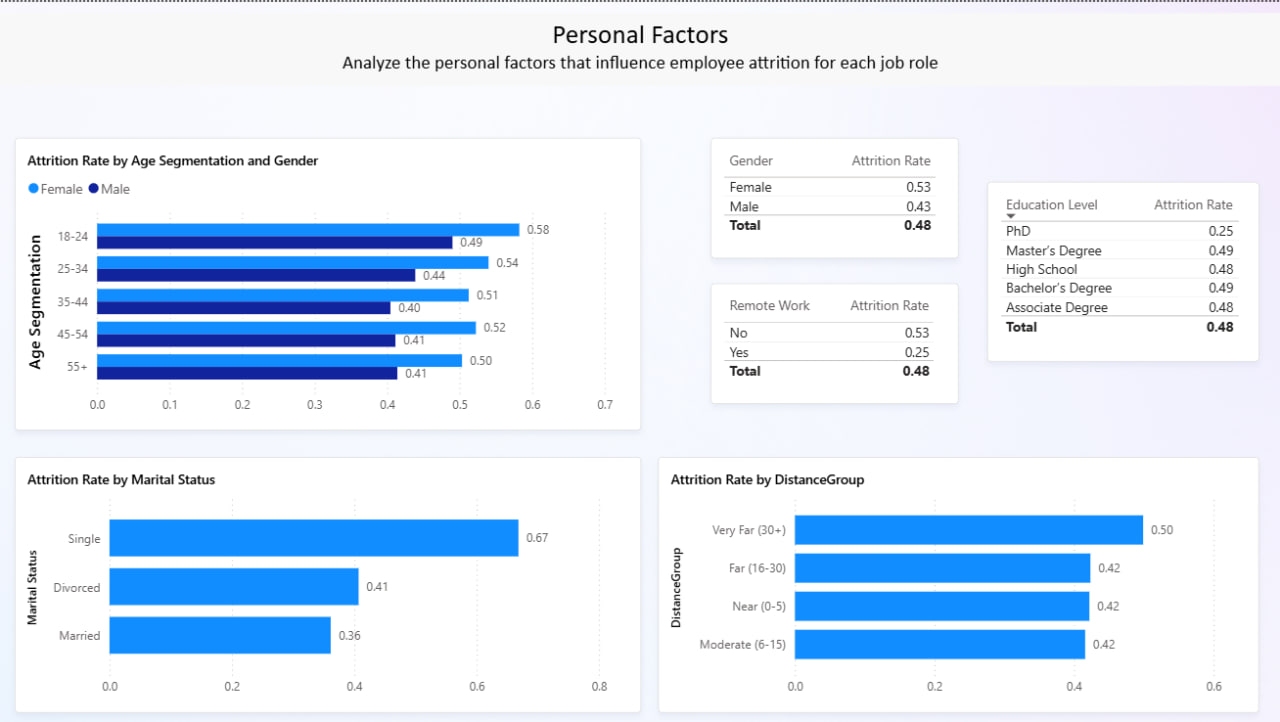

This screenshot's page, from the dashboard's own definition file:
{"tool":"powerbi","page":{"name":"Personal Factors","canvas":[1280,720],"ordinal":3},"visuals":[{"type":"textbox","box":[0,10.4,1280.3,72.9],"z":0},{"type":"clusteredBarChart","fields":{"Category":["hr_analytics employee_attrition.Age Segmentation"],"Y":["hr_analytics employee_attrition.Attrition Rate"],"Series":["hr_analytics employee_attrition.Gender"]},"box":[14.9,135.3,626,292.9],"z":1000},{"type":"tableEx","fields":{"Values":["hr_analytics employee_attrition.Gender","hr_analytics employee_attrition.Attrition Rate"]},"box":[710.8,135.3,248.3,120.4],"z":2000},{"type":"clusteredBarChart","fields":{"Category":["hr_analytics employee_attrition.Marital Status"],"Y":["hr_analytics employee_attrition.Attrition Rate"]},"box":[14.9,455,626,255.8],"z":3000},{"type":"tableEx","fields":{"Values":["hr_analytics employee_attrition.Education Level","hr_analytics employee_attrition.Attrition Rate"]},"box":[987.4,179.9,272.1,179.9],"z":4000},{"type":"barChart","fields":{"Category":["hr_analytics employee_attrition.DistanceGroup"],"Y":["hr_analytics employee_attrition.Attrition Rate"]},"box":[658.2,454.9,601,256.1],"z":5000},{"type":"tableEx","fields":{"Values":["hr_analytics employee_attrition.Remote Work","hr_analytics employee_attrition.Attrition Rate"]},"box":[710.8,281,248.3,120.4],"z":6000}]}

Visuals, with their boxes in screenshot pixels (x1, y1, x2, y2), scaled from the page's 1280x720 canvas onto the 1280x722 screenshot:
textbox: [0,10,1279,84]
clusteredBarChart - hr_analytics employee_attrition.Age Segmentation x hr_analytics employee_attrition.Attrition Rate: [15,136,641,429]
tableEx - hr_analytics employee_attrition.Gender x hr_analytics employee_attrition.Attrition Rate: [711,136,959,256]
clusteredBarChart - hr_analytics employee_attrition.Marital Status x hr_analytics employee_attrition.Attrition Rate: [15,456,641,713]
tableEx - hr_analytics employee_attrition.Education Level x hr_analytics employee_attrition.Attrition Rate: [987,180,1260,361]
barChart - hr_analytics employee_attrition.DistanceGroup x hr_analytics employee_attrition.Attrition Rate: [658,456,1259,713]
tableEx - hr_analytics employee_attrition.Remote Work x hr_analytics employee_attrition.Attrition Rate: [711,282,959,403]
